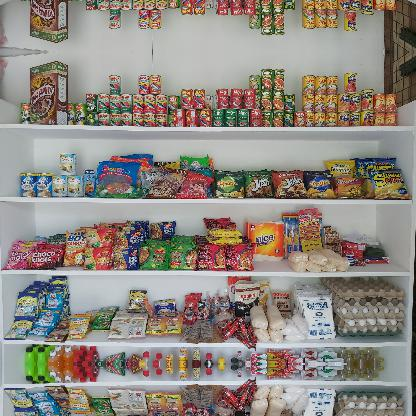Koko-Krunch: (30, 60, 68, 124), (29, 0, 69, 45)
